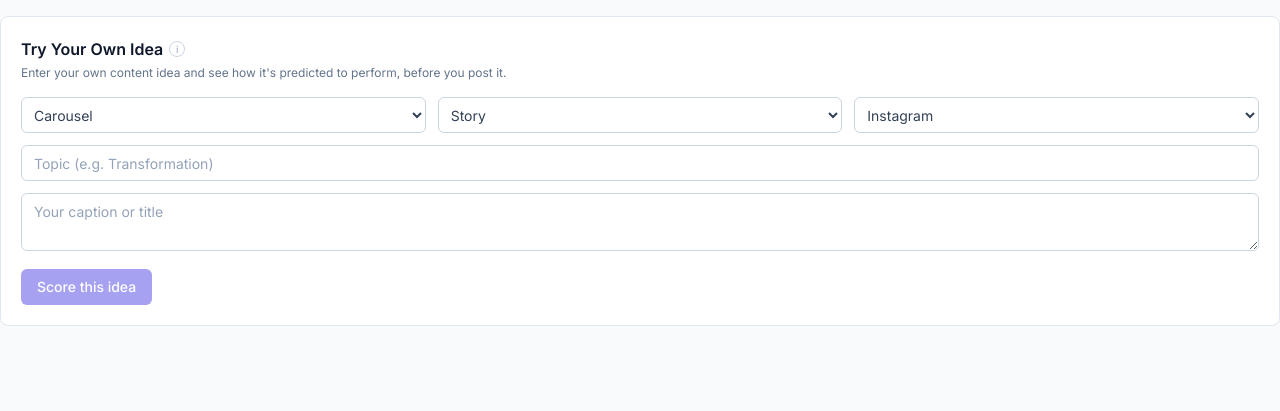
Scenario: warns when the model has never seen the topic
In the field with placeholder "Topic (e.g. Transformation)": (640, 163) [21,145,1259,181], type "gardening"
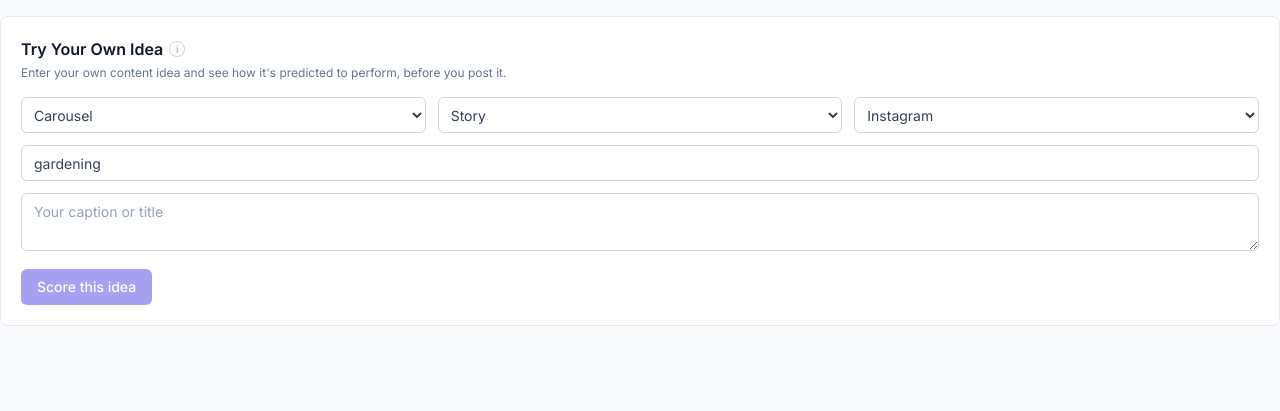
In the text box with placeholder "Your caption or title": (640, 222) [21,193,1259,251], type "My own idea caption."
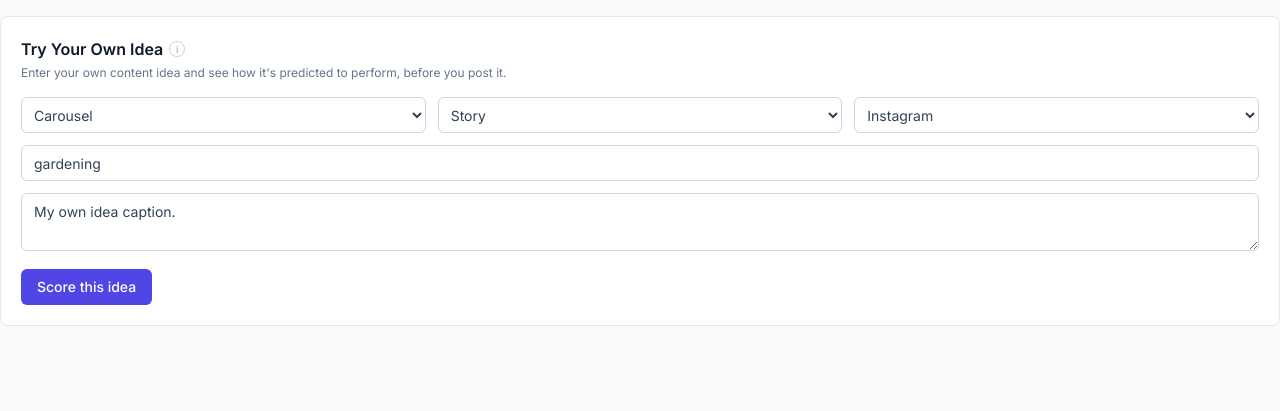
Click the button "Score this idea": (87, 287) [21,269,152,305]
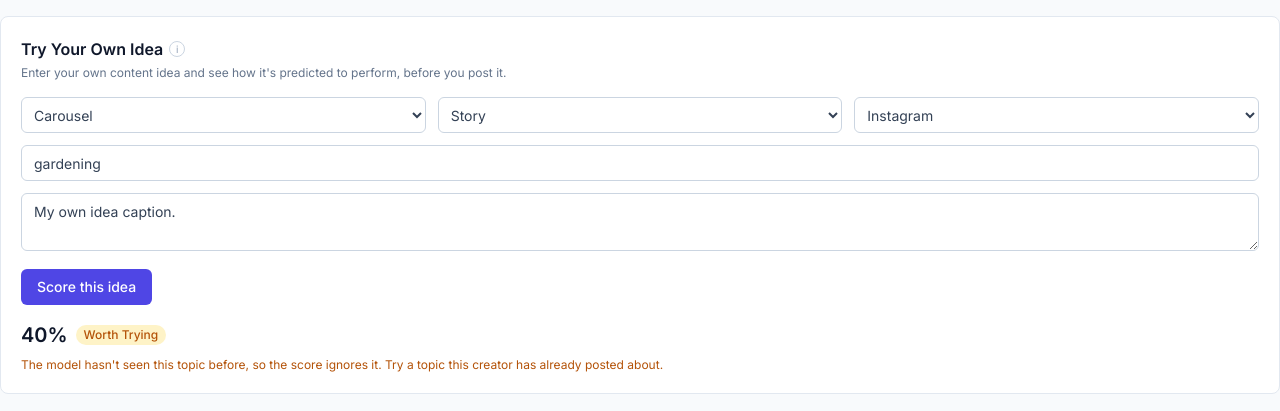
Now the text "40%" is shown, box [21,321,68,349]
Now the text "hasn't seen this topic" is shown, box [21,357,663,372]
